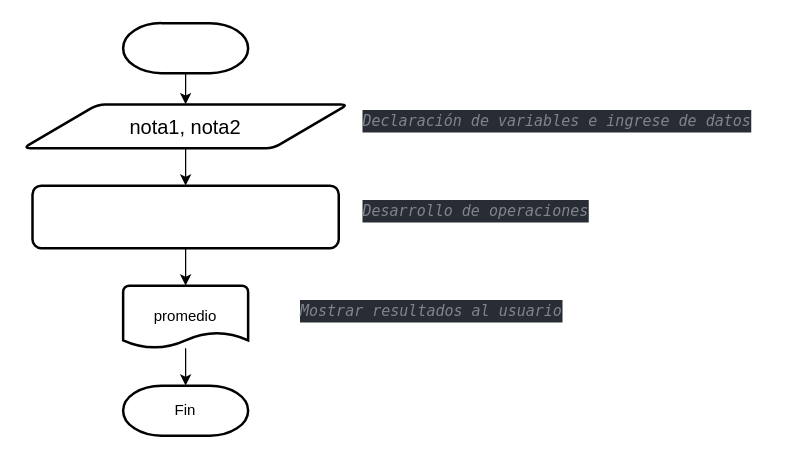
Some shapes in this 806 by 458 pixel diagram are drawn without their labels. The centre of each missing label's shape, as x and y in pixels:
Inicio: (185,47)
promedio = (nota1+nota2)/2: (185,216)
